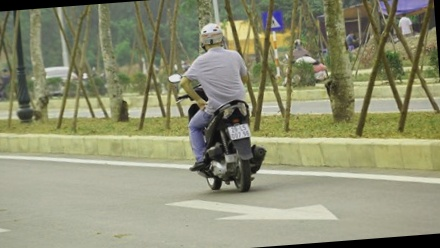Bien-so: (228, 123, 252, 141)
